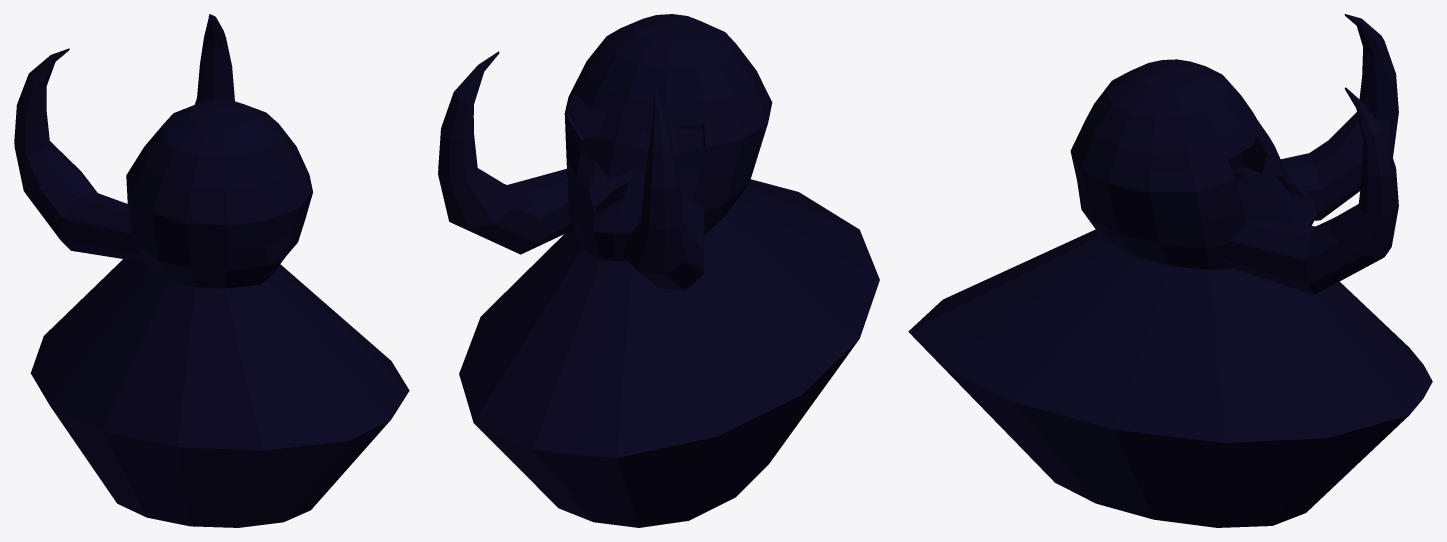
The model's file is Tusk Ilsand.fbx.
3 views of the same model, side by side, from view 1: azimuth 30°, elevation 25°; view 2: azimuth 150°, elevation 25°; view 3: azimuth 270°, elevation 25° (orthographic). The views are drawn at different scales.
Visible parts, largest first — view 1: Cylinder; view 2: Cylinder; view 3: Cylinder.
Part boxes in pixels (left/top/right/bottom): Cylinder: left=14, top=14, right=409, bottom=527; Cylinder: left=438, top=14, right=879, bottom=527; Cylinder: left=908, top=14, right=1432, bottom=527.
Size of the model in its own units: 6429 by 8861 by 9470.
